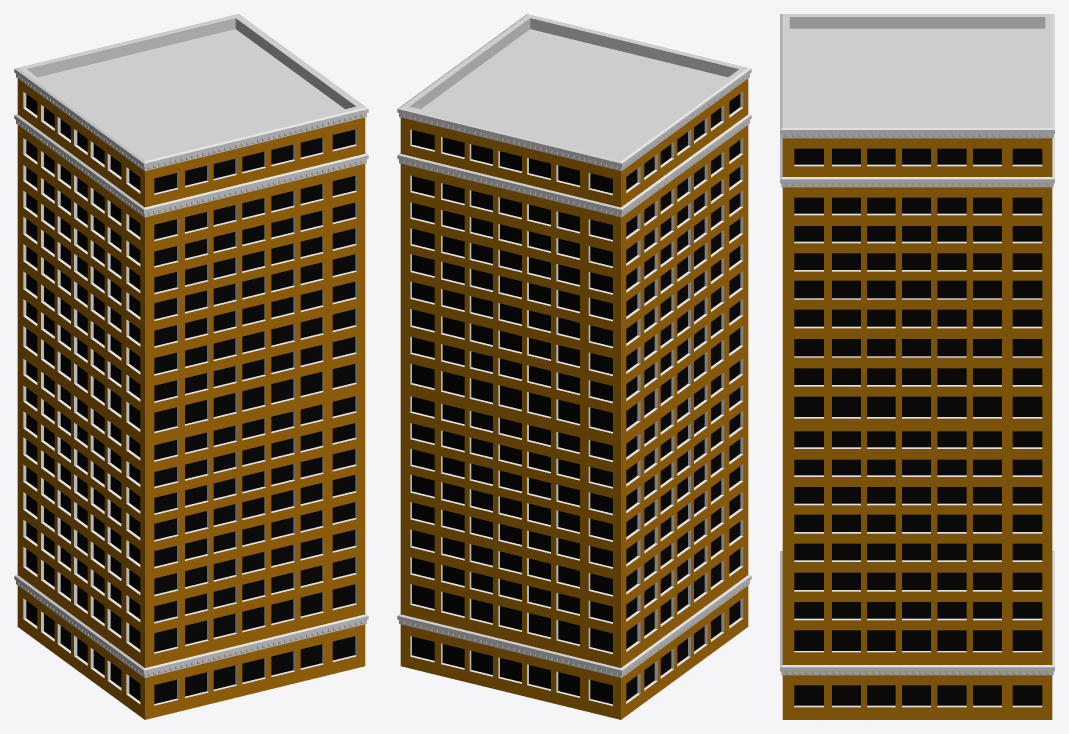
The model's file is buildingsmall1.glb.
The picture shows the model from 3 angles, left to right: view 1: azimuth 30°, elevation 25°; view 2: azimuth 150°, elevation 25°; view 3: azimuth 270°, elevation 25°; orthographic projection. The views are drawn at different scales.
Visible parts, largest first — view 1: SM_SimpleB_1A; view 2: SM_SimpleB_1A; view 3: SM_SimpleB_1A.
Part boxes in pixels (x1=…): SM_SimpleB_1A: x1=14, y1=14, x2=368, y2=719; SM_SimpleB_1A: x1=397, y1=14, x2=751, y2=719; SM_SimpleB_1A: x1=780, y1=14, x2=1054, y2=719.
Size of the model in its own units: 1.82 by 4.33 by 1.82.
